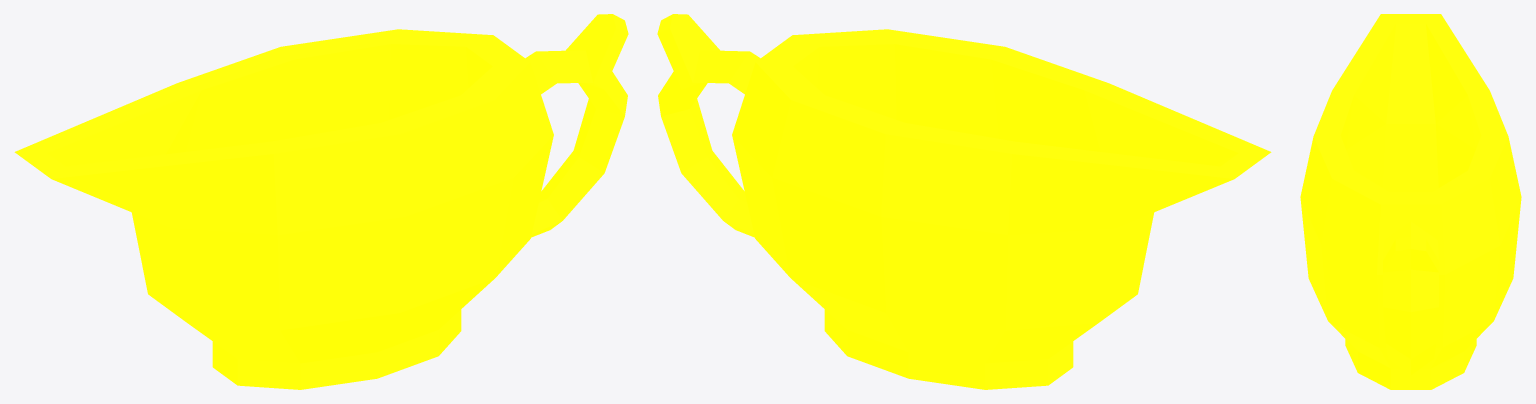
Rendered from gravy-boat-christmas.glb.
The picture shows the model from 3 angles, left to right: view 1: azimuth 30°, elevation 25°; view 2: azimuth 150°, elevation 25°; view 3: azimuth 270°, elevation 25°; orthographic projection. The views are drawn at different scales.
Visible parts, largest first — view 1: gravy_boat_christmas; view 2: gravy_boat_christmas; view 3: gravy_boat_christmas.
Part boxes in pixels (x1,y1,x2,y2): gravy_boat_christmas: [14, 14, 628, 389]; gravy_boat_christmas: [657, 14, 1271, 389]; gravy_boat_christmas: [1300, 14, 1521, 389].
Bounding box in the file's own units: 0.2324 × 0.1 × 0.0916.
1 material, 1 textured.
